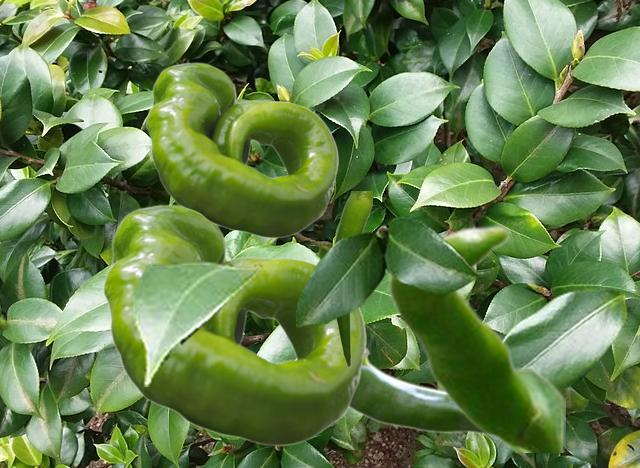green_chili: (103, 204, 365, 445), (387, 224, 564, 451), (146, 62, 337, 237), (350, 346, 484, 434), (333, 191, 371, 366)
